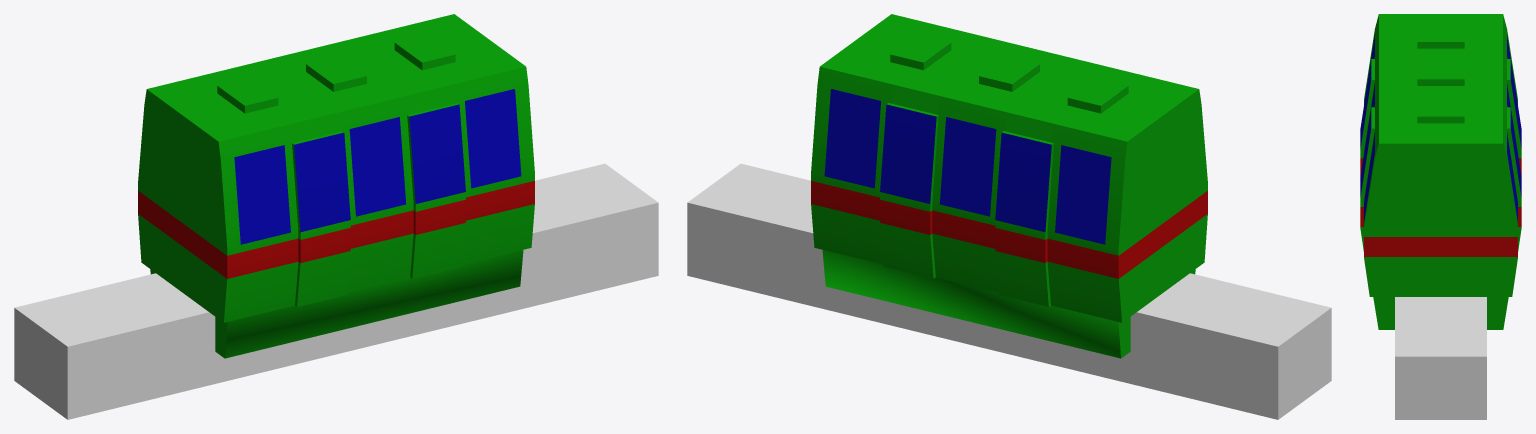
Rendered from car-0.fbx.
3 renders of one model, left to right at view 1: azimuth 30°, elevation 25°; view 2: azimuth 150°, elevation 25°; view 3: azimuth 270°, elevation 25°, orthographic. The views are drawn at different scales.
Visible parts, largest first — view 1: Middle Car, TrackMask, Middle Car-Door, Middle Car-Flanges, Middle Car-Top; view 2: Middle Car, TrackMask, Middle Car-Door, Middle Car-Flanges, Middle Car-Top; view 3: Middle Car, TrackMask, Middle Car-Top, Middle Car-Door, Middle Car-Flanges.
Boxes of the visible parts, bbox=[...] form: Middle Car: bbox=[138, 14, 534, 322]; TrackMask: bbox=[14, 163, 658, 419]; Middle Car-Door: bbox=[292, 103, 465, 306]; Middle Car-Flanges: bbox=[150, 250, 523, 358]; Middle Car-Top: bbox=[217, 34, 455, 113]; Middle Car: bbox=[811, 14, 1207, 322]; TrackMask: bbox=[687, 163, 1331, 419]; Middle Car-Door: bbox=[880, 103, 1053, 306]; Middle Car-Flanges: bbox=[822, 250, 1195, 358]; Middle Car-Top: bbox=[890, 34, 1128, 113]; Middle Car: bbox=[1364, 14, 1517, 296]; TrackMask: bbox=[1395, 297, 1486, 419]; Middle Car-Top: bbox=[1417, 27, 1464, 123]; Middle Car-Door: bbox=[1360, 59, 1521, 251]; Middle Car-Flanges: bbox=[1373, 297, 1508, 329].
Size of the model in its own units: 1000 by 418 by 274.
